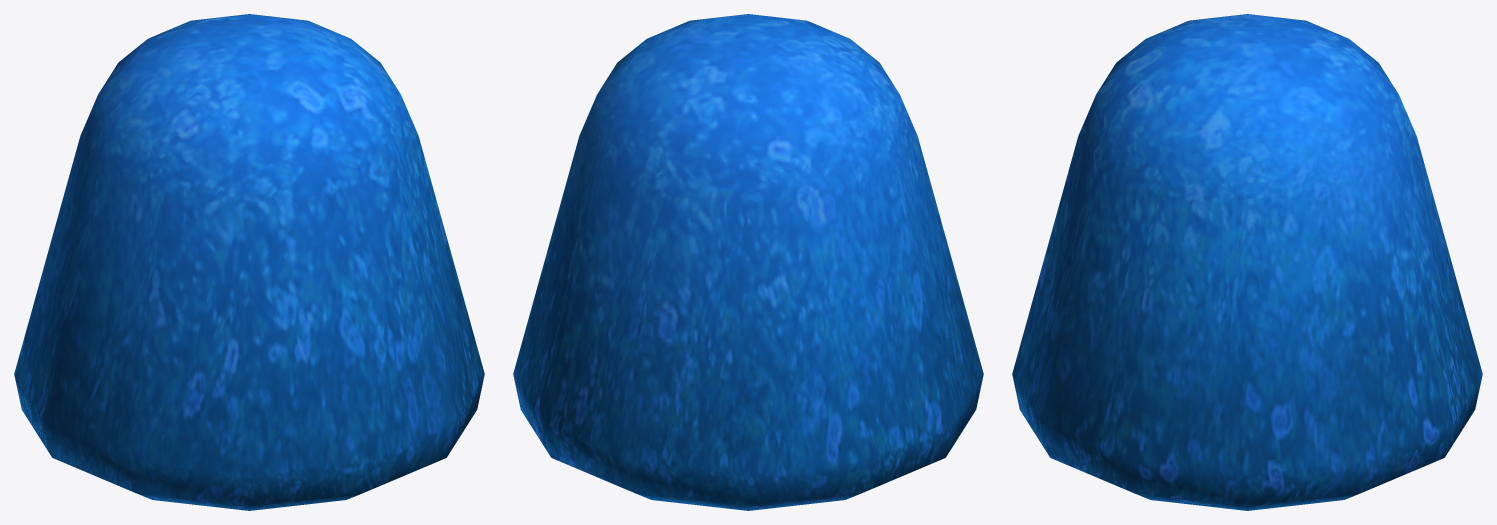
The model's file is CHP_MOD_Marmalade_blue.fbx.
3 renders of one model, left to right at view 1: azimuth 30°, elevation 25°; view 2: azimuth 150°, elevation 25°; view 3: azimuth 270°, elevation 25°, orthographic.
Visible parts, largest first — view 1: CHP_MOD_Marmalade_blue; view 2: CHP_MOD_Marmalade_blue; view 3: CHP_MOD_Marmalade_blue.
Boxes of the visible parts, left/top/right/bottom form: CHP_MOD_Marmalade_blue: left=14, top=14, right=484, bottom=510; CHP_MOD_Marmalade_blue: left=513, top=14, right=983, bottom=510; CHP_MOD_Marmalade_blue: left=1012, top=14, right=1482, bottom=510.
Bounding box in the file's own units: 0.5048 × 0.4654 × 0.5048.
